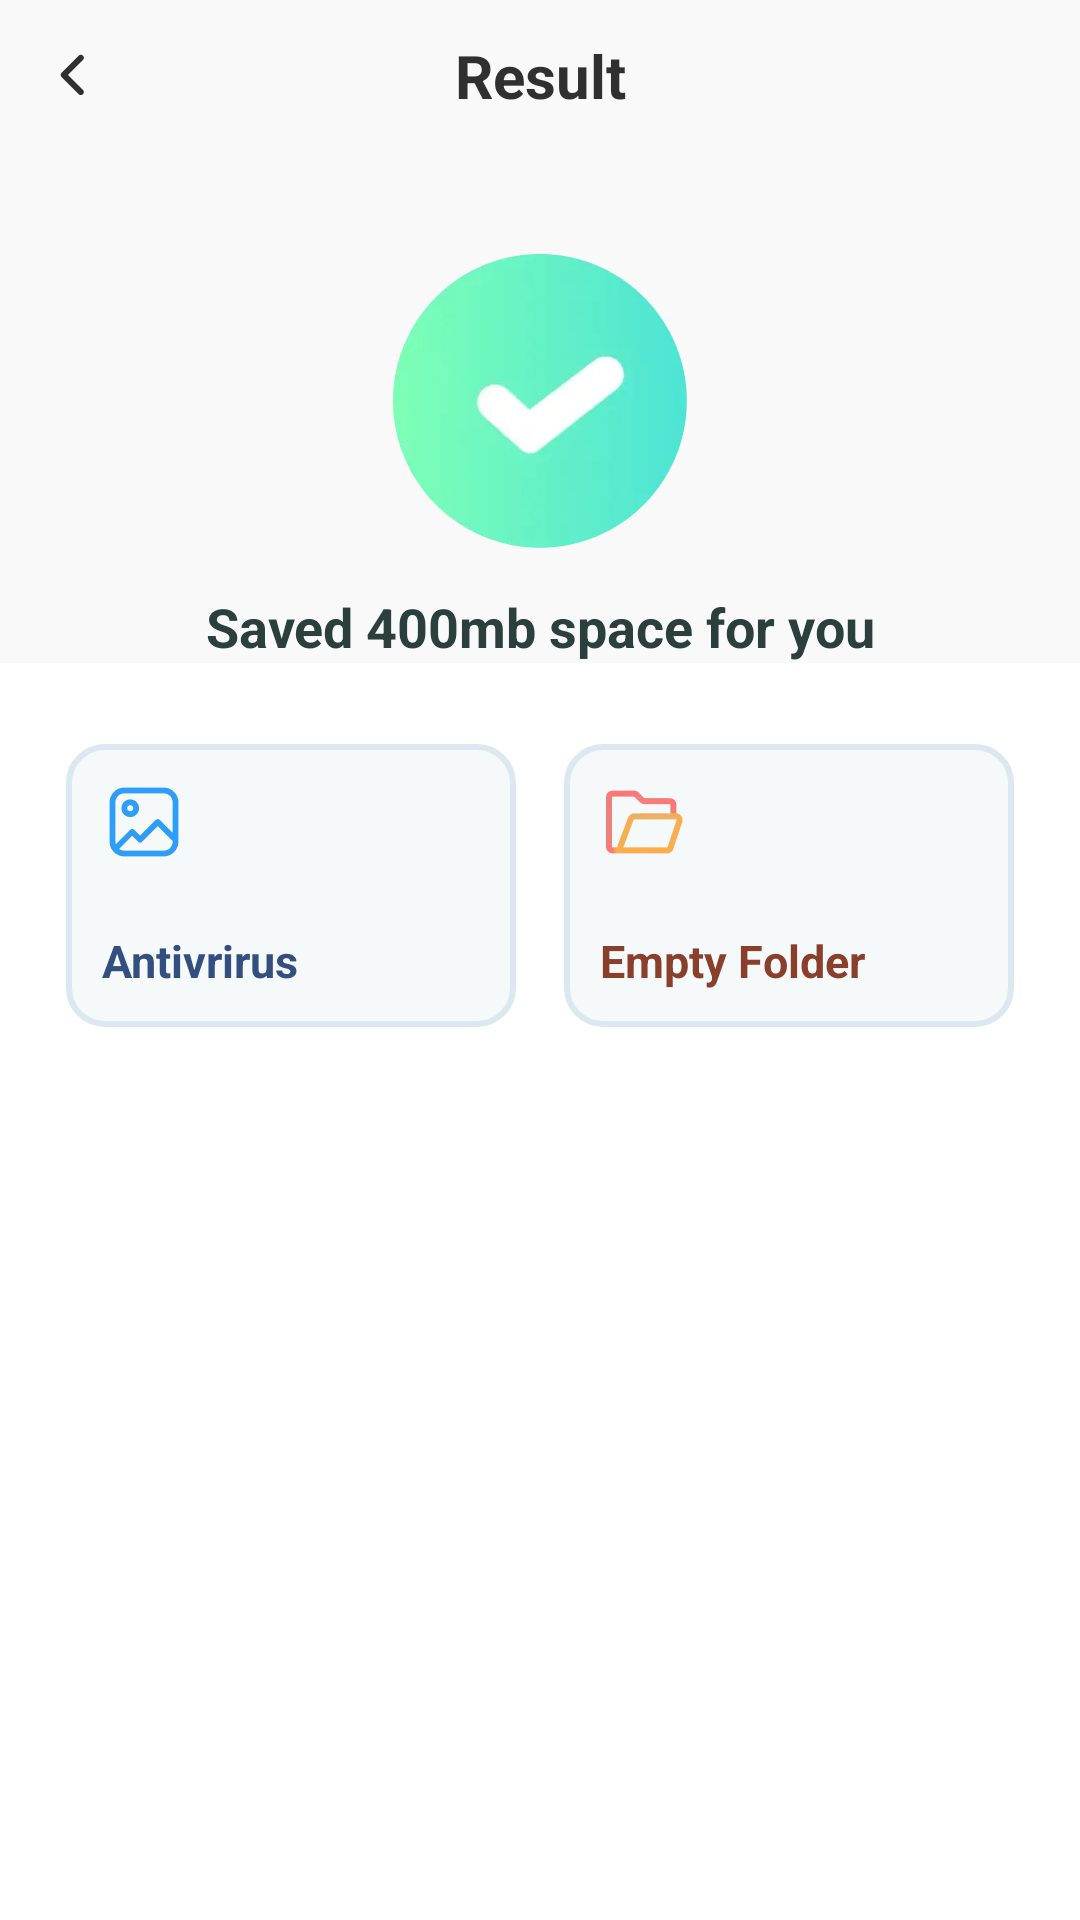

Where to tap for icons on this 1080w x 1920h app screen, as point (x, y):
file: point (644, 822)
finish: point (540, 401)
reture: point (72, 74)
